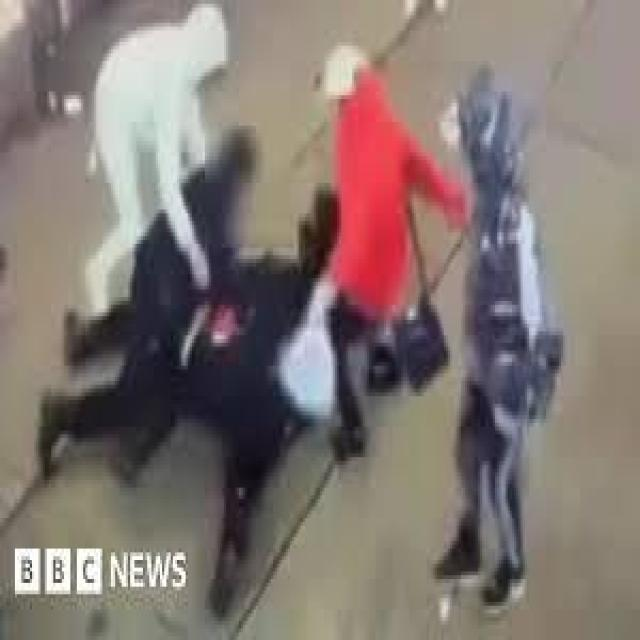fight: (96, 0, 420, 541)
